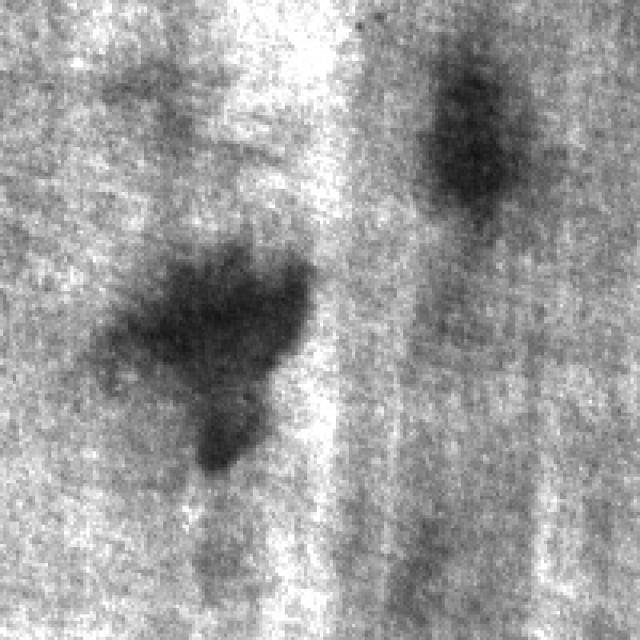patches: (132, 237, 326, 470), (413, 41, 531, 218)
